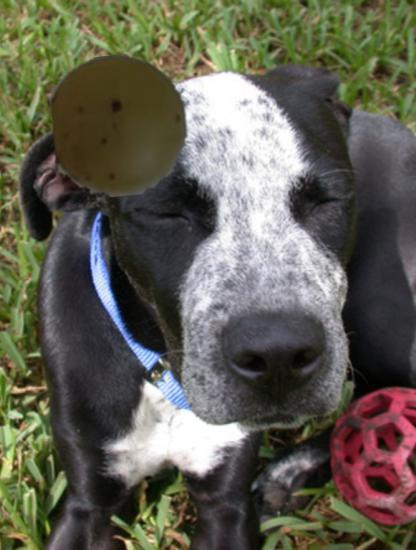Grape: (49, 55, 190, 196)
